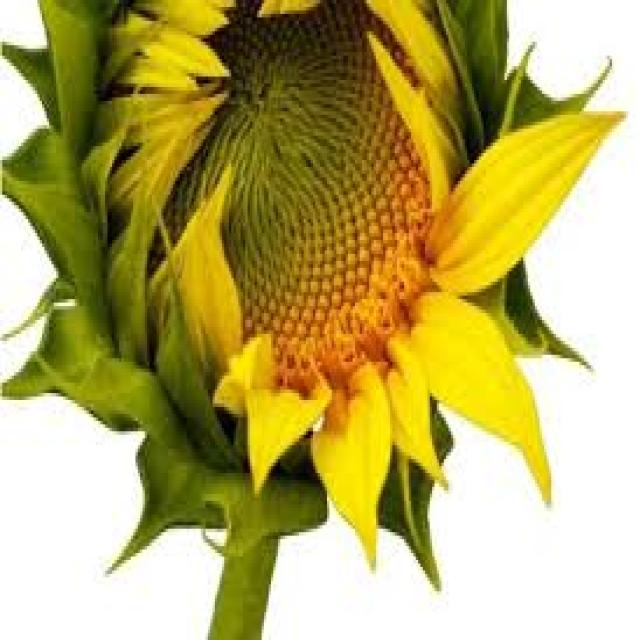sunflower: (0, 0, 633, 584)
